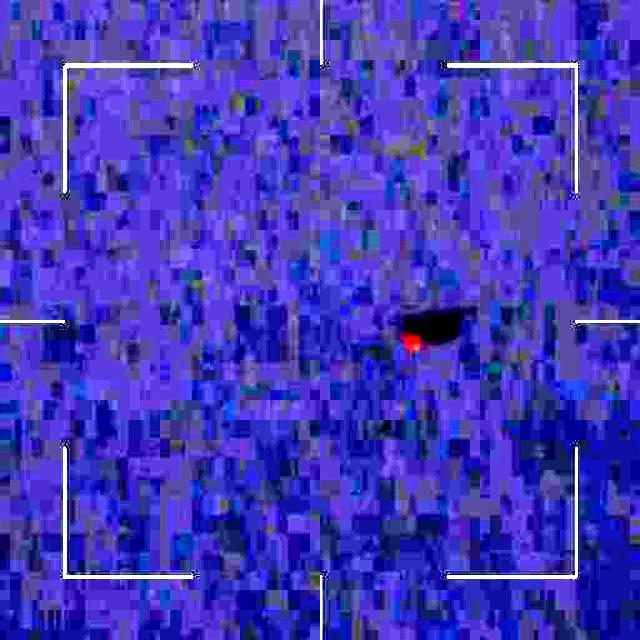bird: (394, 318, 434, 361)
